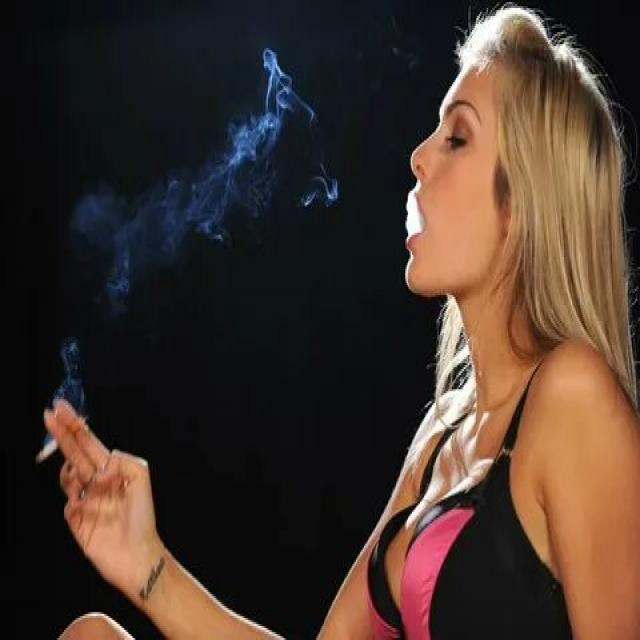smoke: (33, 413, 87, 468)
